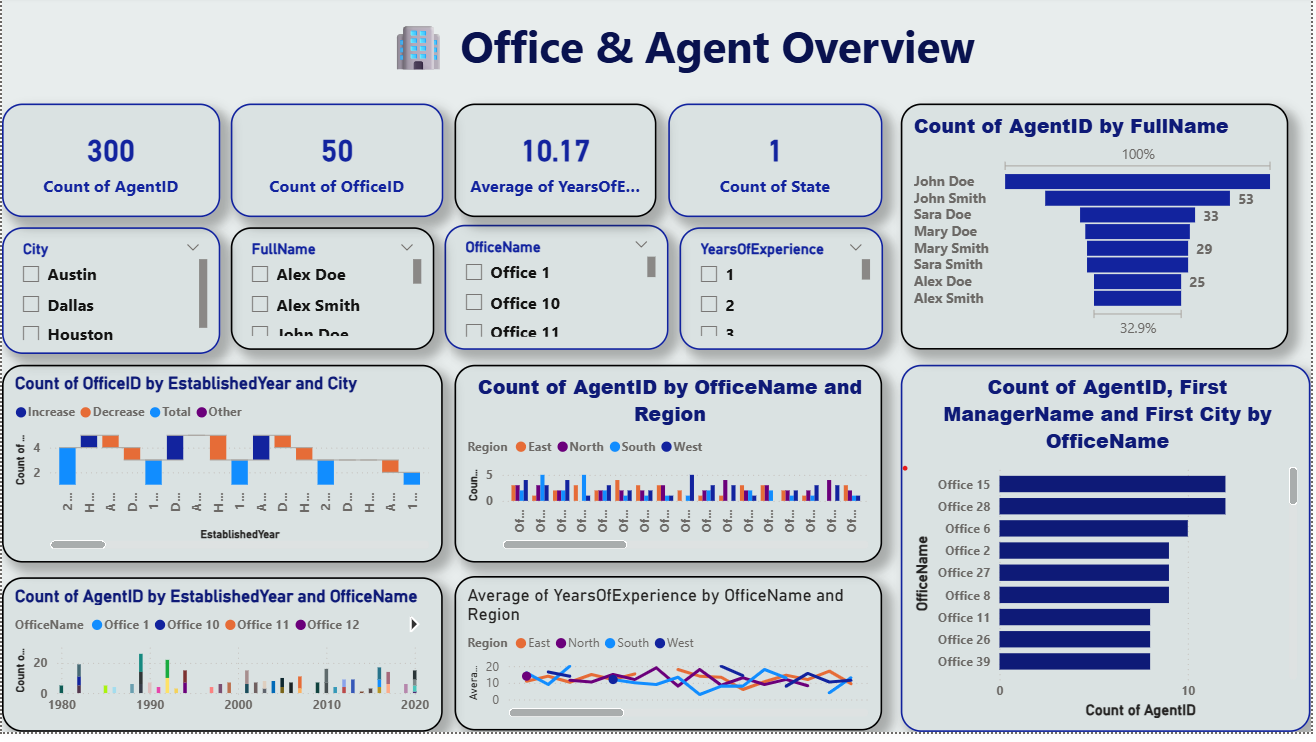

The page's visual inventory and layout, read from the dashboard file:
{"tool":"powerbi","page":{"name":"Page 11","canvas":[1280,720],"ordinal":10},"visuals":[{"type":"card","fields":{"Values":["Count(Agents.AgentID)"]},"box":[0,105.3,213.5,111.1],"z":0},{"type":"card","fields":{"Values":["Count(Offices.OfficeID)"]},"box":[223.6,105.3,207.8,111.1],"z":2},{"type":"slicer","fields":{"Values":["Neighborhoods.City"]},"box":[0,226.5,213.5,124.1],"z":3},{"type":"slicer","fields":{"Values":["Offices.OfficeName"]},"box":[432.8,223.6,219.3,122.6],"z":6},{"type":"textbox","box":[213.5,14.4,901.7,75],"z":7},{"type":"card","fields":{"Values":["Avg(Agents.YearsOfExperience)"]},"box":[442.9,105.3,197.7,111.1],"z":8},{"type":"card","fields":{"Values":["Count(Offices.State)"]},"box":[652.1,105.3,209.2,111.1],"z":9},{"type":"slicer","fields":{"Values":["Agents.FullName"]},"box":[223.6,226.5,199.1,119.7],"z":10},{"type":"barChart","fields":{"Category":["Offices.OfficeName"],"Y":["CountNonNull(Agents.AgentID)"]},"box":[878.6,360.7,401.1,359.2],"z":11},{"type":"funnel","fields":{"Category":["Agents.FullName"],"Y":["Count(Agents.AgentID)"]},"box":[878.6,105.3,379.4,240.9],"z":12},{"type":"waterfallChart","fields":{"Breakdown":["Offices.City"],"Category":["Offices.EstablishedYear"],"Y":["CountNonNull(Offices.OfficeID)"]},"box":[0,360.7,431.4,193.3],"z":13},{"type":"slicer","fields":{"Values":["Agents.YearsOfExperience"]},"box":[662.2,226.5,199.1,119.7],"z":14},{"type":"ribbonChart","fields":{"Category":["Offices.EstablishedYear"],"Series":["Offices.OfficeName"],"Y":["CountNonNull(Agents.AgentID)"]},"box":[0,568.4,431.4,151.5],"z":15},{"type":"clusteredColumnChart","fields":{"Category":["Offices.OfficeName"],"Series":["Agents.Region"],"Y":["CountNonNull(Agents.AgentID)"]},"box":[442.9,360.7,418.4,193.3],"z":16},{"type":"lineChart","fields":{"Category":["Offices.OfficeName"],"Series":["Agents.Region"],"Y":["Avg(Agents.YearsOfExperience)"]},"box":[443,568,418,151],"z":17}]}

Visuals, with their boxes in screenshot pixels (x1, y1, x2, y2), scaled from the page's 1280x720 canvas onto the 1316x742 screenshot:
card - Count(Agents.AgentID): crop(0, 109, 220, 223)
card - Count(Offices.OfficeID): crop(230, 109, 444, 223)
slicer - Neighborhoods.City: crop(0, 233, 220, 361)
slicer - Offices.OfficeName: crop(445, 230, 670, 357)
textbox: crop(220, 15, 1147, 92)
card - Avg(Agents.YearsOfExperience): crop(455, 109, 659, 223)
card - Count(Offices.State): crop(670, 109, 886, 223)
slicer - Agents.FullName: crop(230, 233, 435, 357)
barChart - Offices.OfficeName x CountNonNull(Agents.AgentID): crop(903, 372, 1315, 741)
funnel - Agents.FullName x Count(Agents.AgentID): crop(903, 109, 1293, 357)
waterfallChart - Offices.City x Offices.EstablishedYear: crop(0, 372, 444, 571)
slicer - Agents.YearsOfExperience: crop(681, 233, 886, 357)
ribbonChart - Offices.EstablishedYear x Offices.OfficeName: crop(0, 586, 444, 741)
clusteredColumnChart - Offices.OfficeName x Agents.Region: crop(455, 372, 886, 571)
lineChart - Offices.OfficeName x Agents.Region: crop(455, 585, 885, 741)
